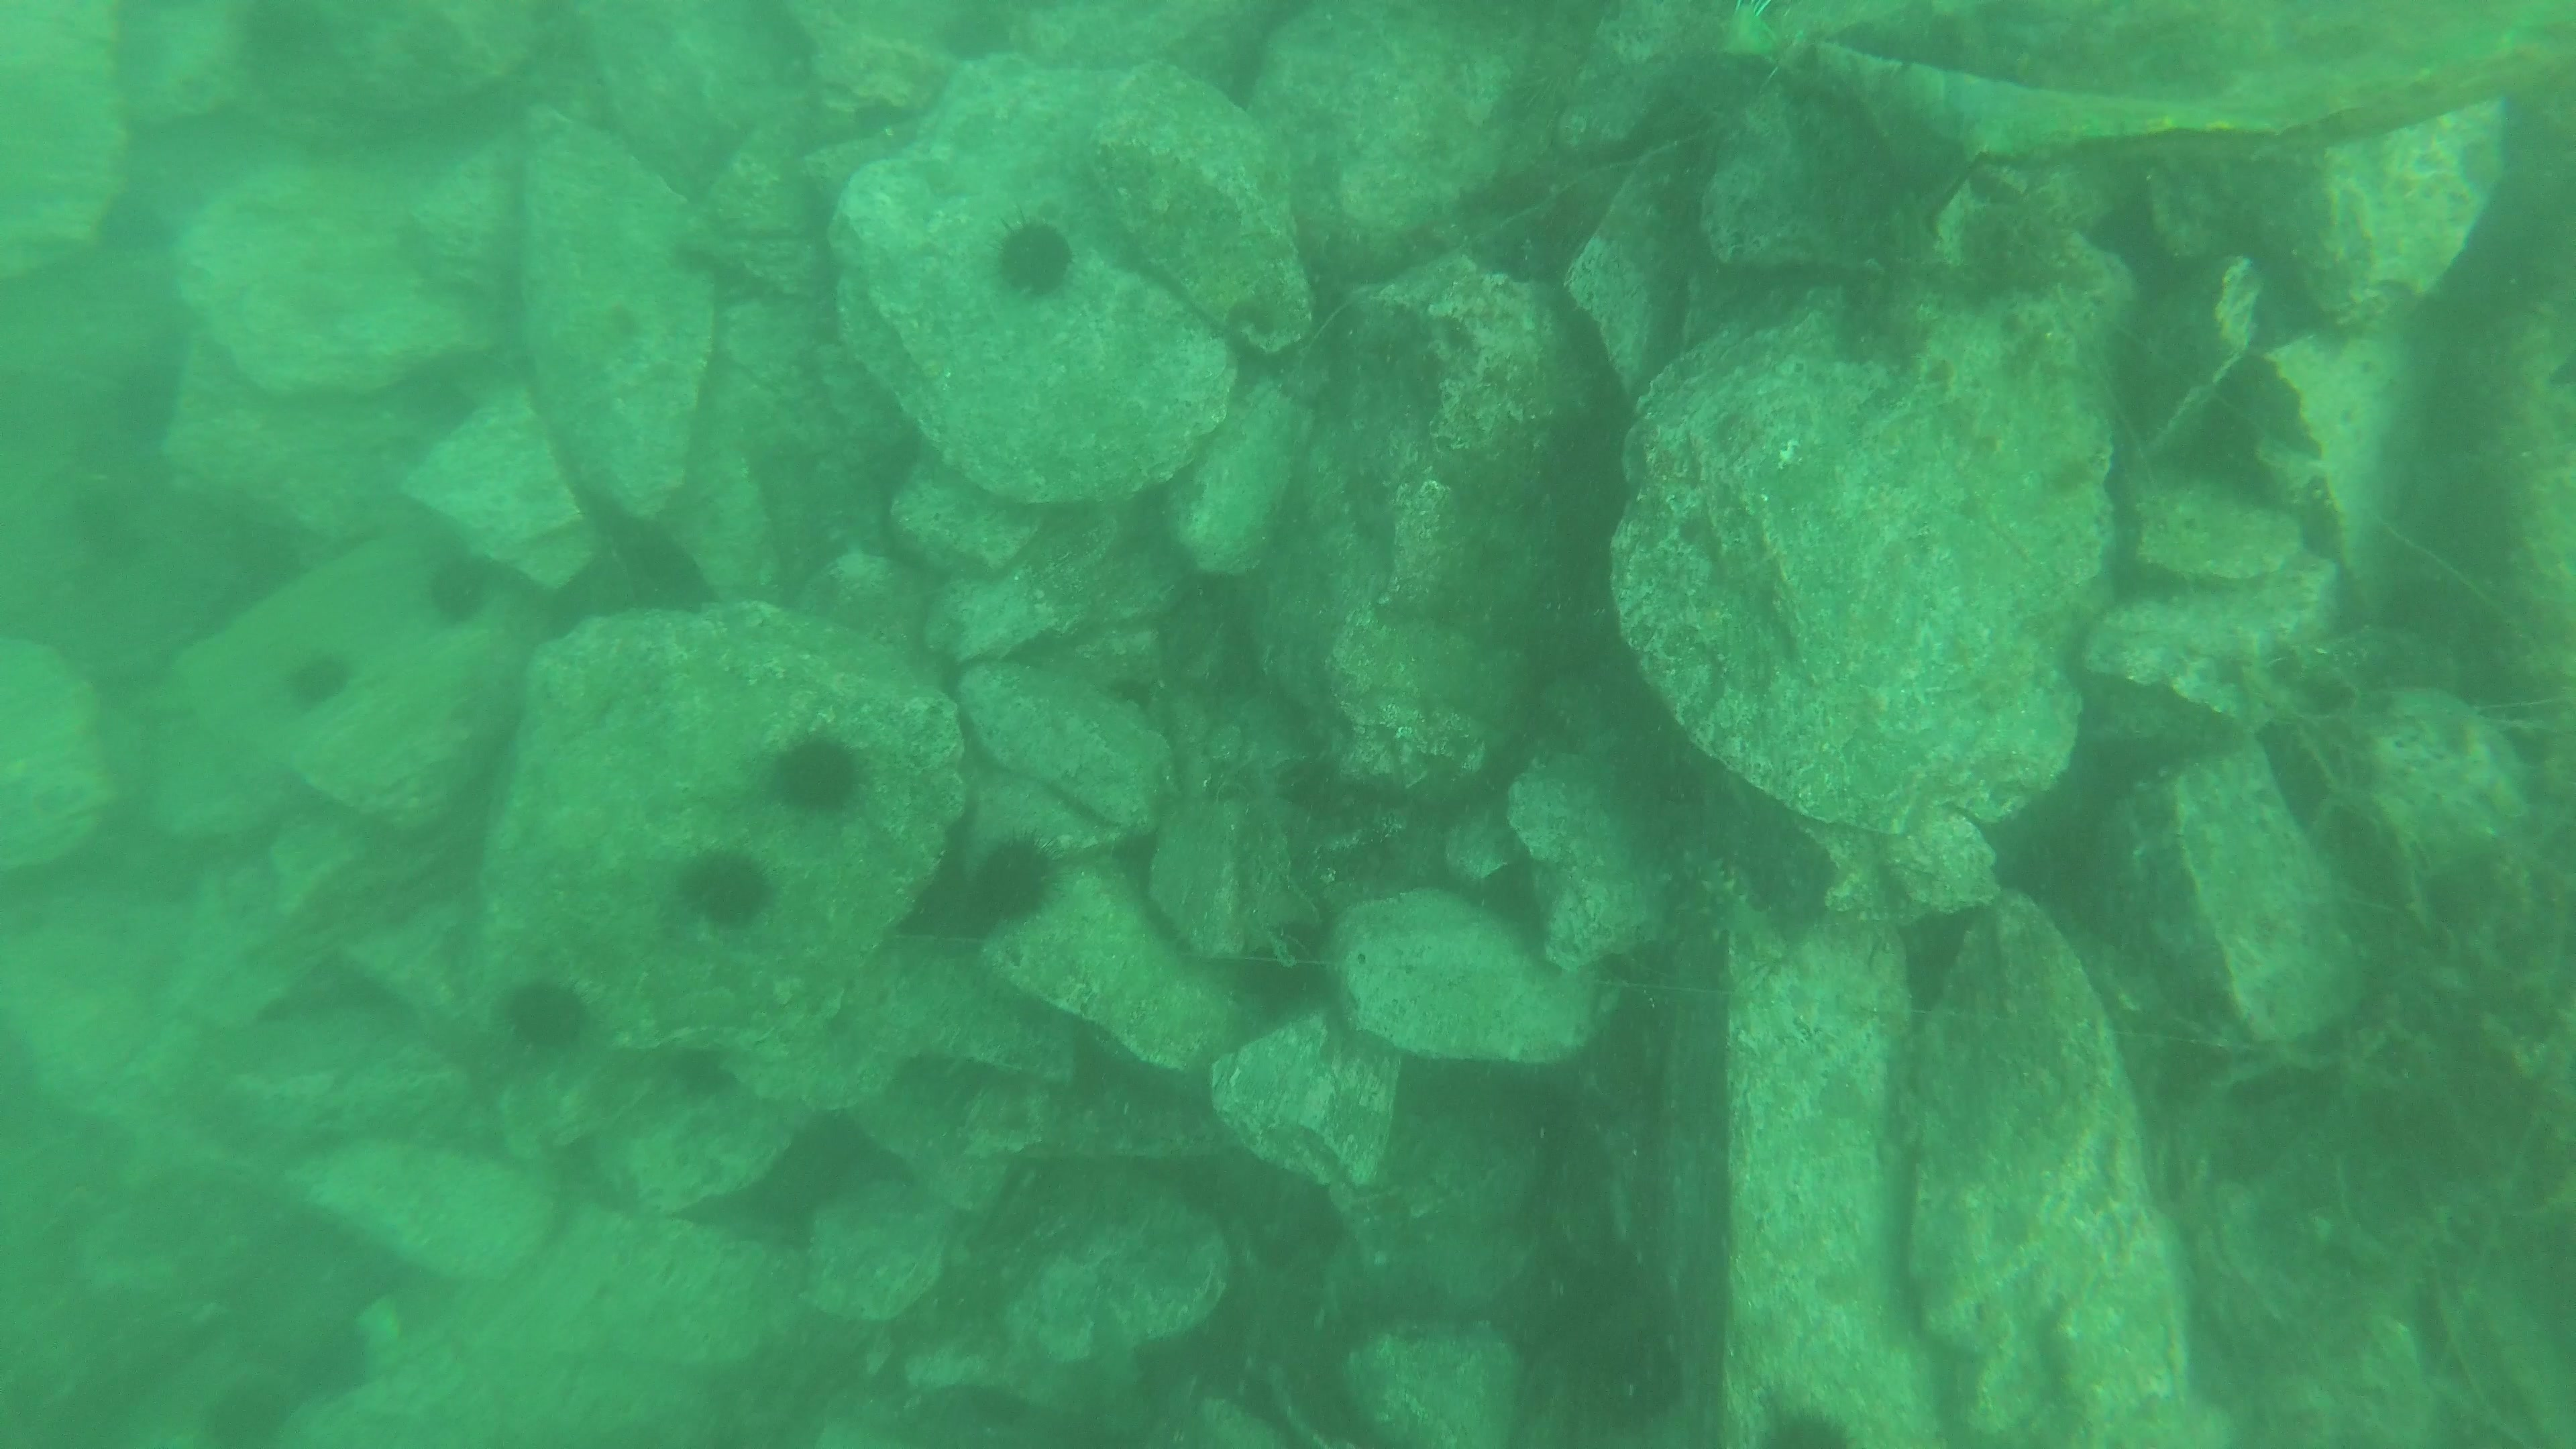echinus: (752, 729, 869, 823), (663, 837, 770, 931), (494, 977, 609, 1058), (991, 200, 1083, 301), (971, 835, 1065, 931), (425, 556, 488, 623), (1766, 1405, 1861, 1449)
